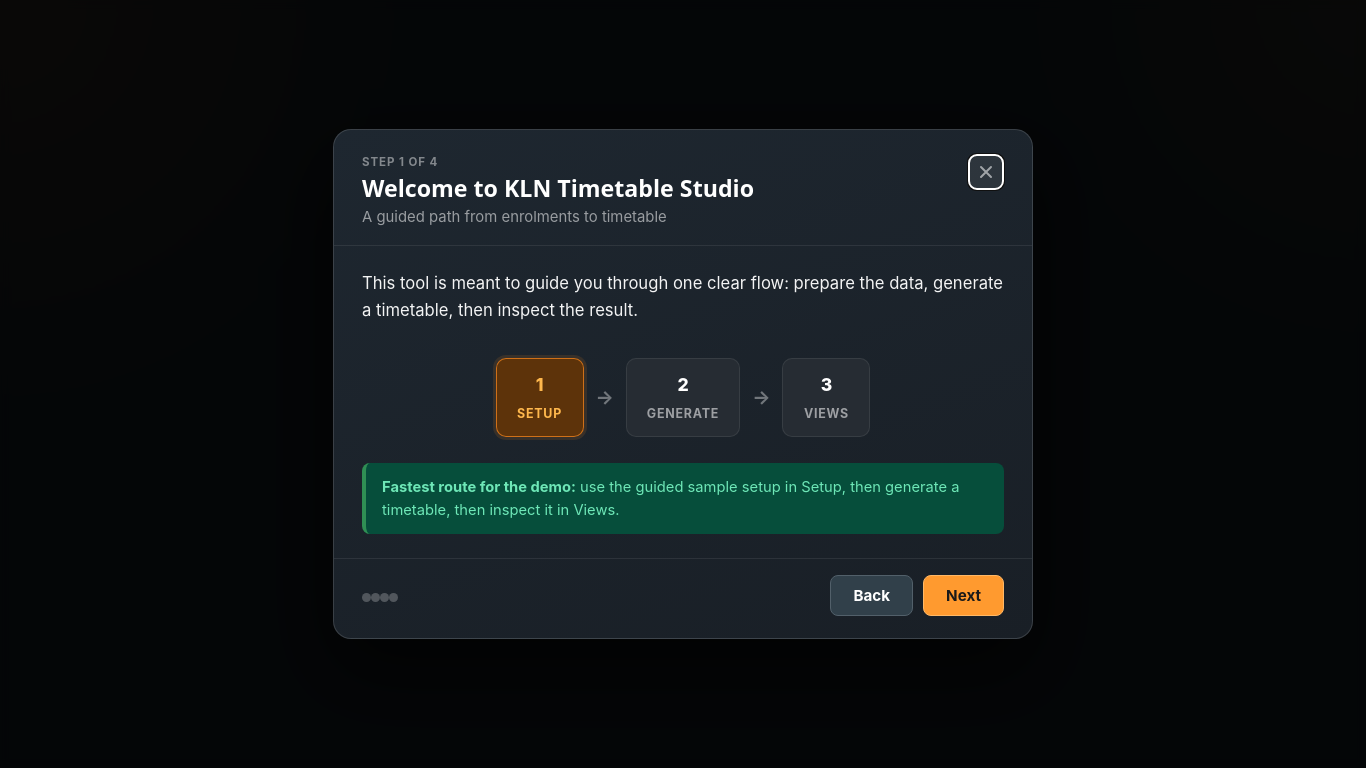
Test: OnboardingTutorial › explains that setup starts from the CSV-first flow
Click the button named "Go to step 2". click: (376, 598)
box: [371,593,380,602]
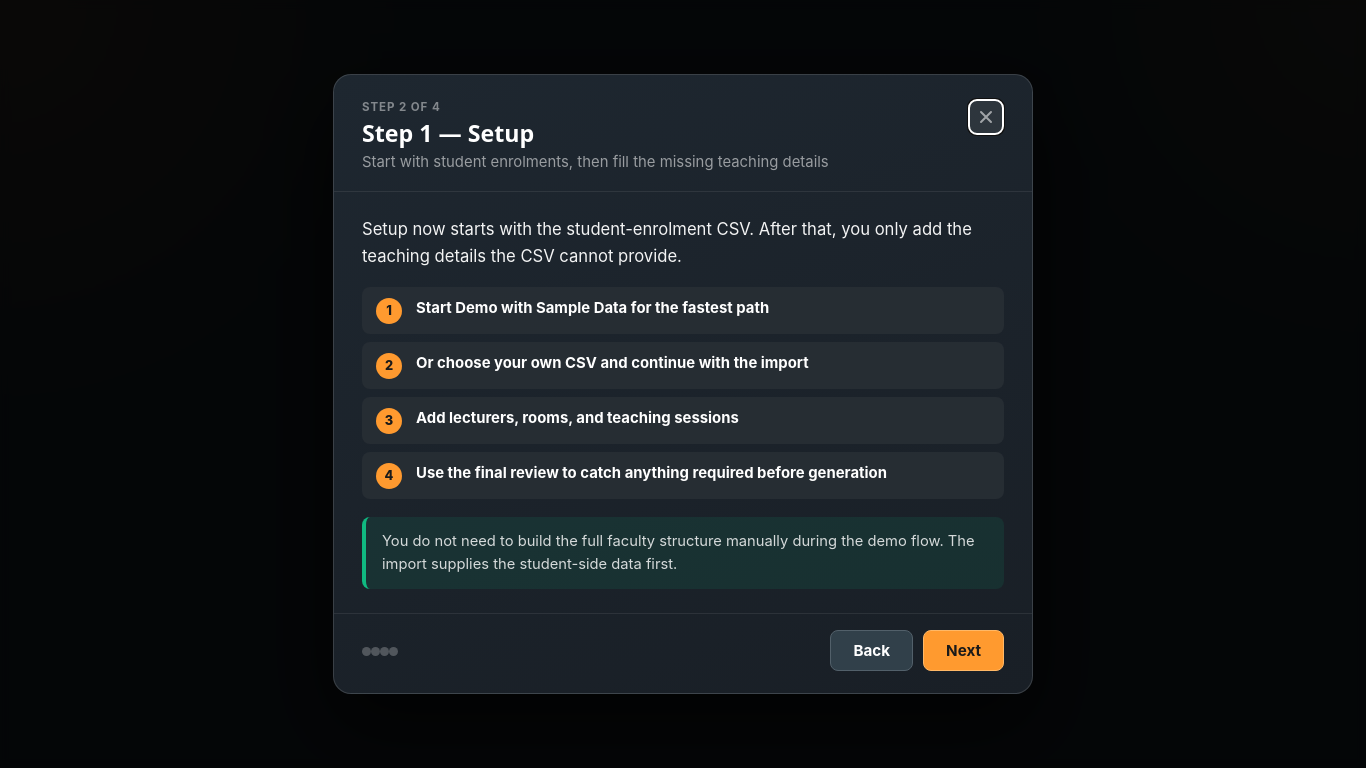
Result: the text "Setup now starts with the student-enrolment CSV" is shown at [362,219,972,266]
Result: the text "You do not need to build the full faculty structure manually" is shown at [382,532,975,573]
